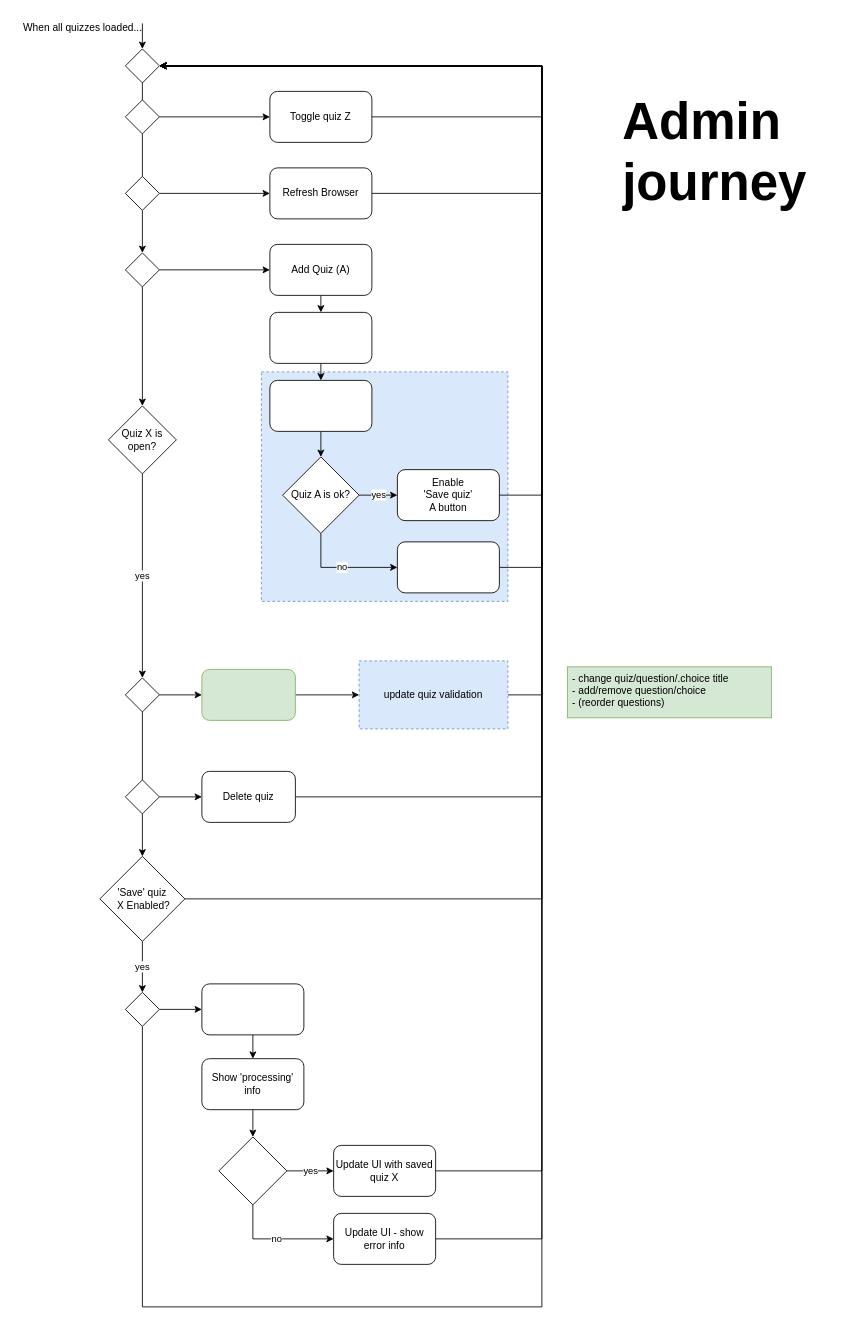
Image size: 862x1329. Some labels were removed from this diagram. Each missing label, with the centre of its shape:
"Disable 'Save quiz' A button Show issues" goes at point (448, 567).
"Edit quiz X" goes at point (248, 694).
"Save quiz X" goes at point (252, 1009).
"Saved in Db" goes at point (252, 1170).
"Show quiz A" goes at point (320, 337).
"Validate updated quiz" goes at point (320, 405).
